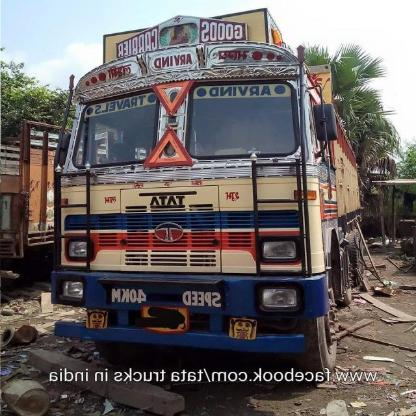truck: (46, 46, 376, 362)
